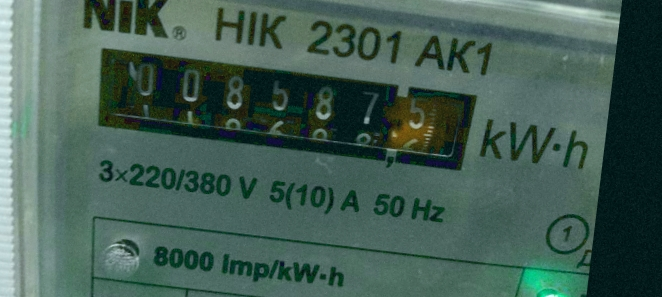0: (175, 62, 204, 105)
1: (130, 57, 158, 100)
5: (403, 91, 431, 133), (266, 74, 293, 115)
7: (354, 86, 381, 129)
8: (219, 70, 248, 113), (310, 81, 336, 124)
screen: (69, 25, 498, 194)
